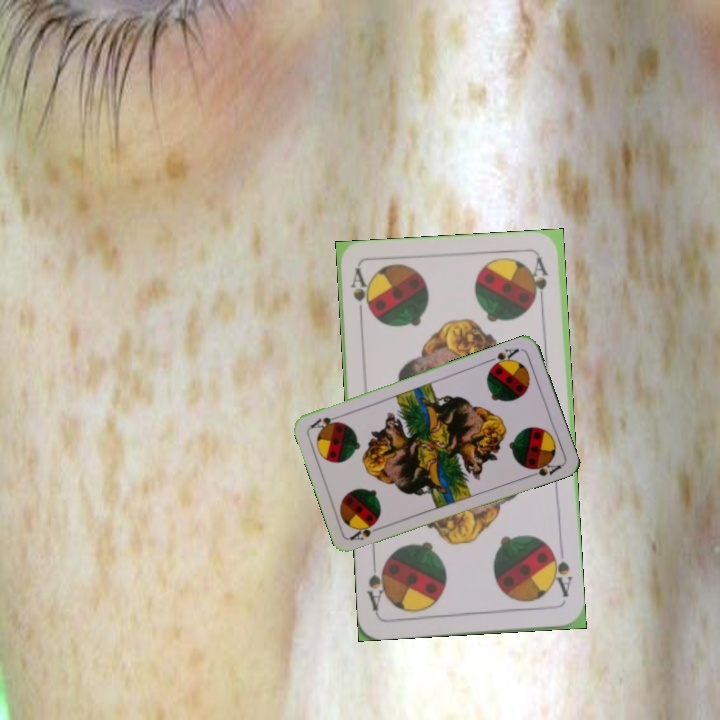SA: (546, 544, 575, 600), (347, 265, 373, 324), (484, 344, 522, 371), (346, 519, 386, 543)
